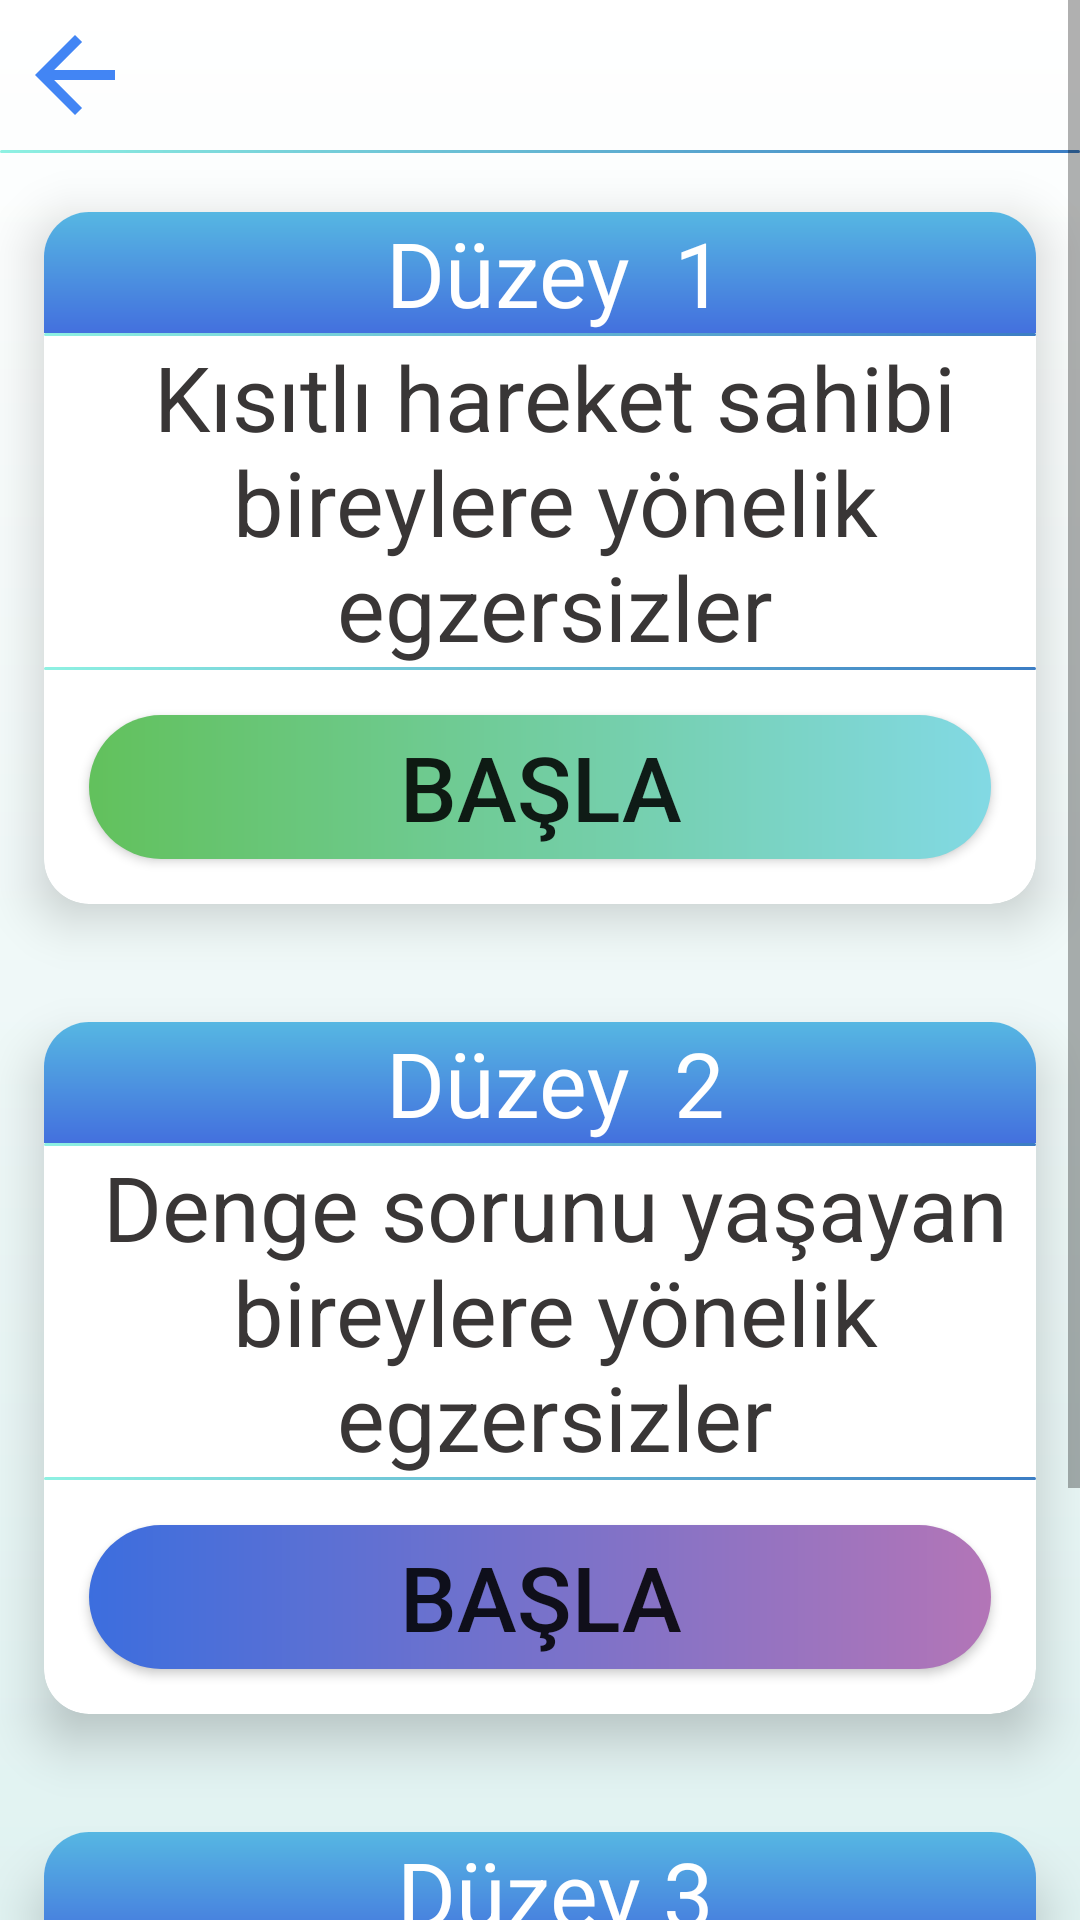

Locate icon controls on the screen. Image size 1080 × 1920, boxes as (x1, y1, x2, y2).
arrow back: (35, 35, 115, 115)
